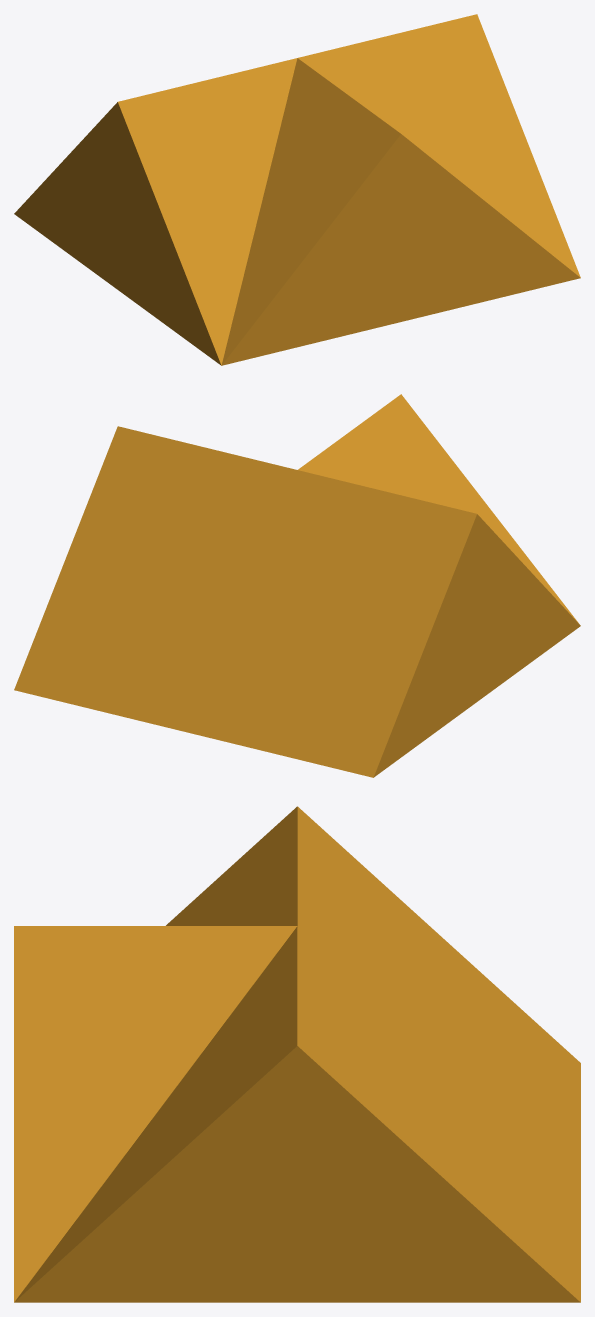
Rendered from Roof-Mid-4x4x2-Gable-Tee.FBX.
3 views of the same model, one above another, from view 1: azimuth 30°, elevation 25°; view 2: azimuth 150°, elevation 25°; view 3: azimuth 270°, elevation 25° (orthographic). The views are drawn at different scales.
Parts seen in each view (by area): view 1: Roof-Mid-4x4x2-Gable-Tee; view 2: Roof-Mid-4x4x2-Gable-Tee; view 3: Roof-Mid-4x4x2-Gable-Tee.
Boxes of the visible parts, x1,y1,x2,y2 form: Roof-Mid-4x4x2-Gable-Tee: [14, 14, 580, 365]; Roof-Mid-4x4x2-Gable-Tee: [14, 394, 580, 777]; Roof-Mid-4x4x2-Gable-Tee: [14, 806, 580, 1302].
Bounding box in the file's own units: 40 × 40 × 20.
